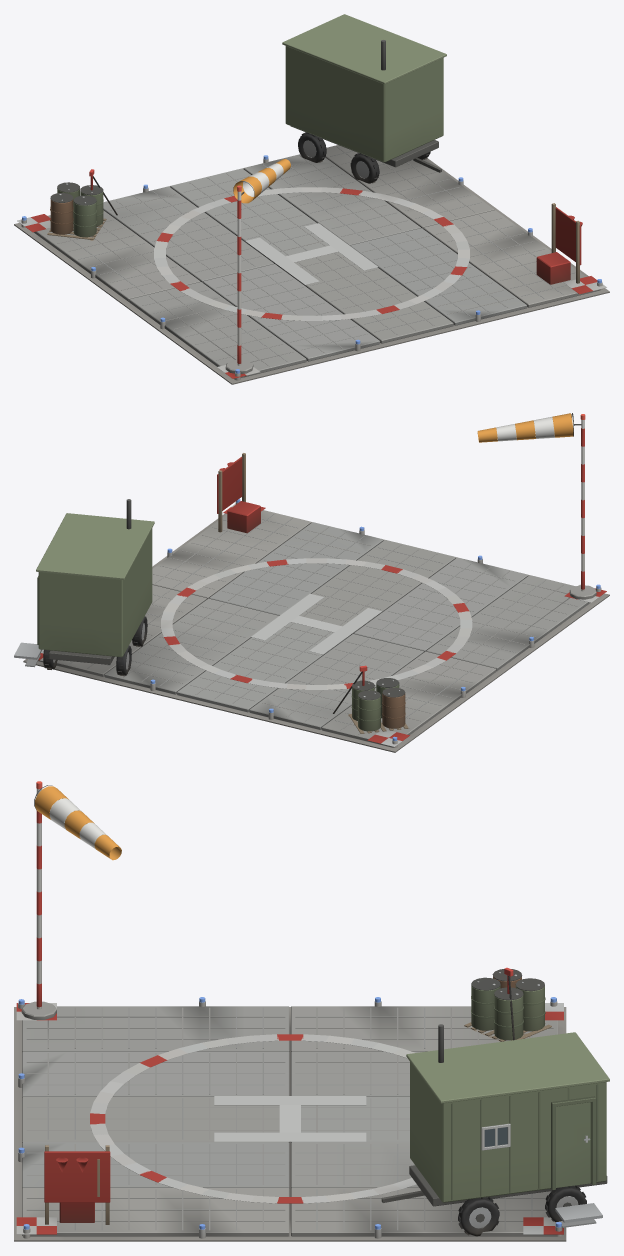
Rendered from struct_helipad_rus.glb.
3 views of the same model, one above another, from view 1: azimuth 30°, elevation 25°; view 2: azimuth 150°, elevation 25°; view 3: azimuth 270°, elevation 25° (orthographic). The views are drawn at different scales.
Parts seen in each view (by area): view 1: struct_helipad_rus; view 2: struct_helipad_rus; view 3: struct_helipad_rus.
Boxes of the visible parts, <box> form: struct_helipad_rus: <box>14,14,609,384</box>; struct_helipad_rus: <box>14,413,609,752</box>; struct_helipad_rus: <box>14,781,609,1241</box>.
Bounding box in the file's own units: 11.06 × 5.18 × 11.76.
